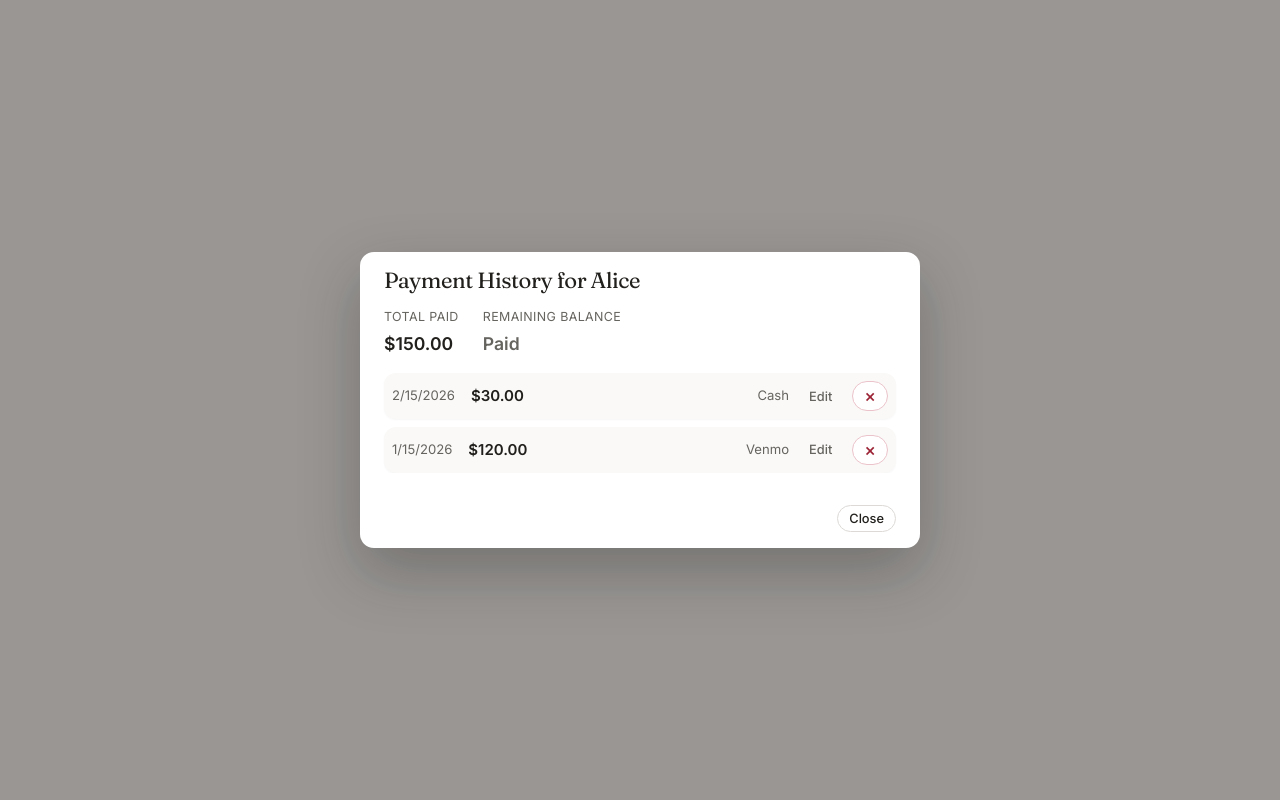
Scenario: PaymentHistoryDialog — reversal-after-refund warning (#331) › does not warn when the only credit adjustment is a carried-forward credit, not a refund
The width and height of the screenshot is (1280, 800).
Click the button titled "Reverse this payment" in the row of "Cash" at (870, 396), box [852,381,888,411]
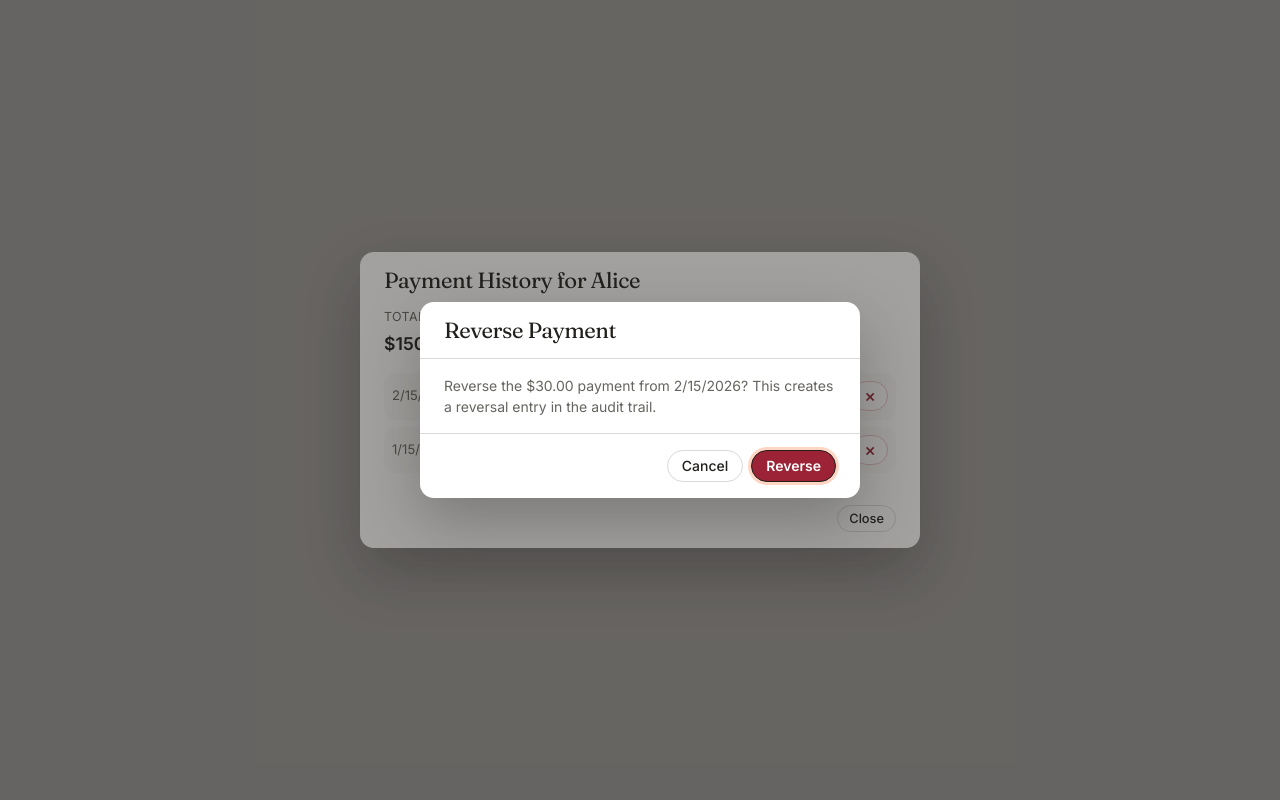
Check: the dialog "Reverse Payment" is shown, box [420,302,860,498]
